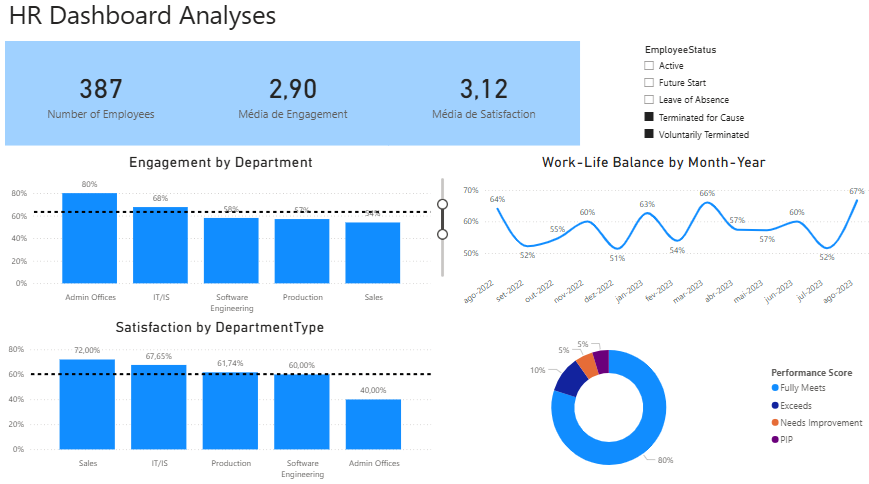

Layout of this report page (visuals, bound fields, positions):
{"tool":"powerbi","page":{"name":"Dashboard","canvas":[1280,720],"ordinal":6},"visuals":[{"type":"textbox","box":[10.1,0,436.7,84],"z":0},{"type":"card","fields":{"Values":["Count(employee_engagement_survey_data.EmpID)"]},"box":[10.1,70.6,280.5,152.9],"z":0,"group":"g1"},{"type":"clusteredColumnChart","title":"Satisfaction by DepartmentType","fields":{"Category":["employee_data (2).DepartmentType"],"Y":["employee_engagement_survey_data.% AverageSatisfaction"]},"box":[10.2,475.2,629.3,243.3],"z":0,"group":"g2"},{"type":"group","id":"g1","title":"Grupo 1","box":[10.1,70.6,841.6,152.9],"z":1000},{"type":"card","fields":{"Values":["Avg(employee_engagement_survey_data.Engagement)"]},"box":[290.6,70.6,280.5,152.9],"z":1000,"group":"g1"},{"type":"clusteredColumnChart","title":"Engagement by Department","fields":{"Category":["employee_data (2).DepartmentType"],"Y":["employee_engagement_survey_data.% AverageEngagement"]},"box":[15.2,234.1,623.2,241.8],"z":1000,"group":"g2"},{"type":"card","fields":{"Values":["Avg(employee_engagement_survey_data.Satisfaction)"]},"box":[571.1,70.6,280.5,152.9],"z":2000,"group":"g1"},{"type":"group","id":"g2","title":"Grupo 2","box":[10.2,234.1,629.3,484.4],"z":2000},{"type":"slicer","fields":{"Values":["employee_data (2).EmployeeStatus"]},"box":[933.7,70.2,245.9,152.2],"z":3000},{"type":"lineChart","title":"Work-Life Balance by Month-Year","fields":{"Y":["employee_engagement_survey_data.% AverageWork-LifeBalance"],"Category":["Calendar.MonthYear"]},"box":[640,233.5,640,243.6],"z":4000},{"type":"donutChart","fields":{"Category":["employee_data (2).Performance Score"],"Y":["CountNonNull(employee_data (2).Performance Score)"]},"box":[651.8,493.9,628.2,226.8],"z":5000}]}

Visuals, with their boxes in screenshot pixels (x1, y1, x2, y2), scaled from the page's 1280x720 canvas onto the 869x484 screenshot:
textbox: detection(7, 0, 303, 56)
card - Count(employee_engagement_survey_data.EmpID): detection(7, 47, 197, 150)
"Satisfaction by DepartmentType" clusteredColumnChart: detection(7, 319, 434, 483)
"Grupo 1" group: detection(7, 47, 578, 150)
card - Avg(employee_engagement_survey_data.Engagement): detection(197, 47, 388, 150)
"Engagement by Department" clusteredColumnChart: detection(10, 157, 433, 320)
card - Avg(employee_engagement_survey_data.Satisfaction): detection(388, 47, 578, 150)
"Grupo 2" group: detection(7, 157, 434, 483)
slicer - employee_data (2).EmployeeStatus: detection(634, 47, 801, 150)
"Work-Life Balance by Month-Year" lineChart: detection(434, 157, 868, 321)
donutChart - employee_data (2).Performance Score x CountNonNull(employee_data (2).Performance Score): detection(443, 332, 868, 483)
